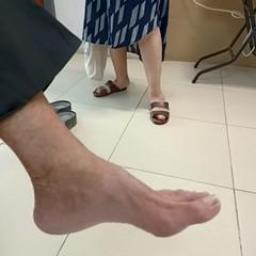Medial View -Left Foot-: (12, 124, 231, 250)
